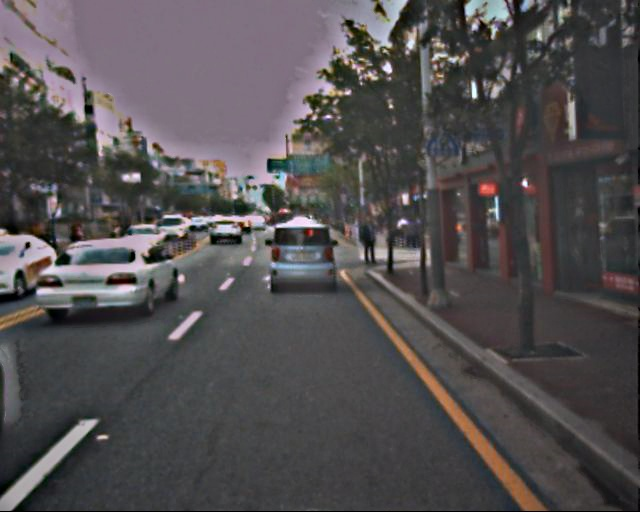person: (359, 214, 380, 265), (397, 221, 421, 247)
